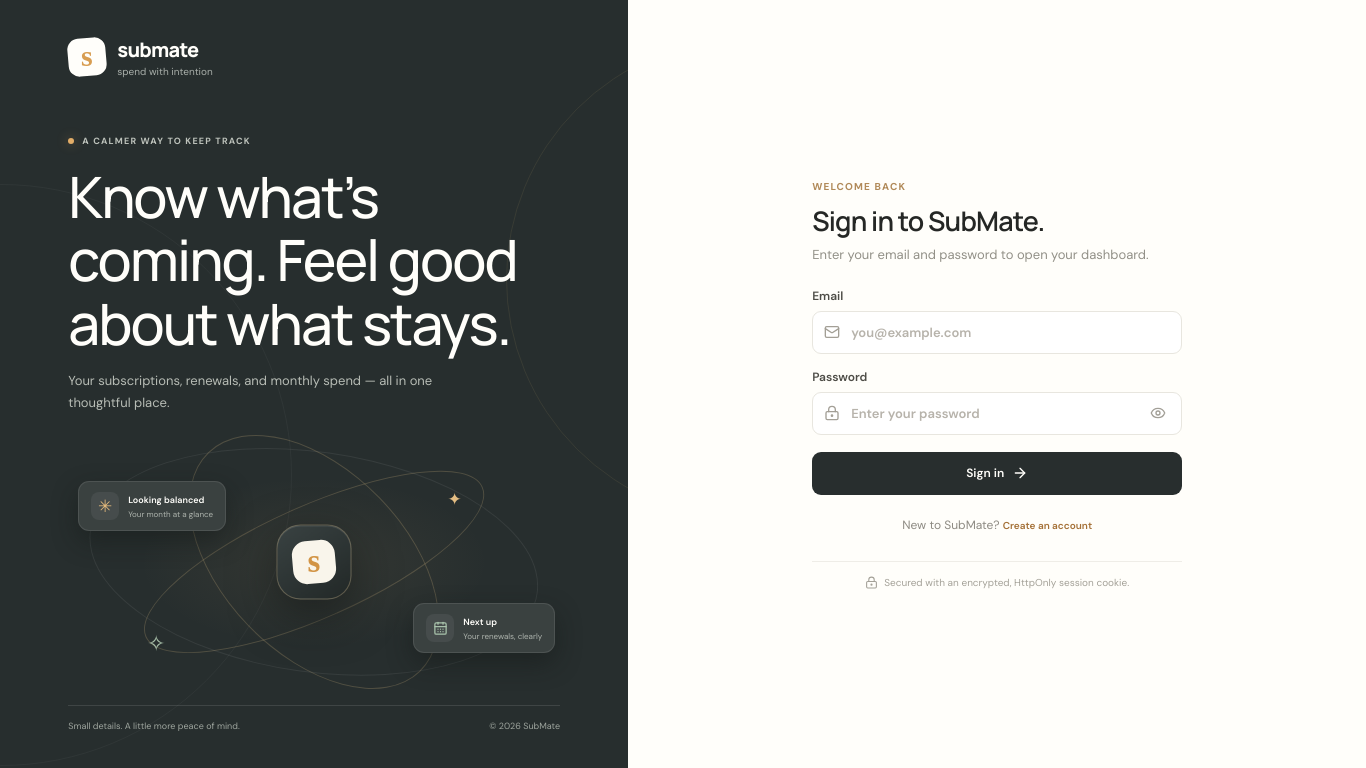
Test: AuthScreen › flags mismatched passwords before contacting the server
The width and height of the screenshot is (1366, 768).
Step 1. Click the button "Create an account" → x=1047, y=525, box [1003,518,1092,532]
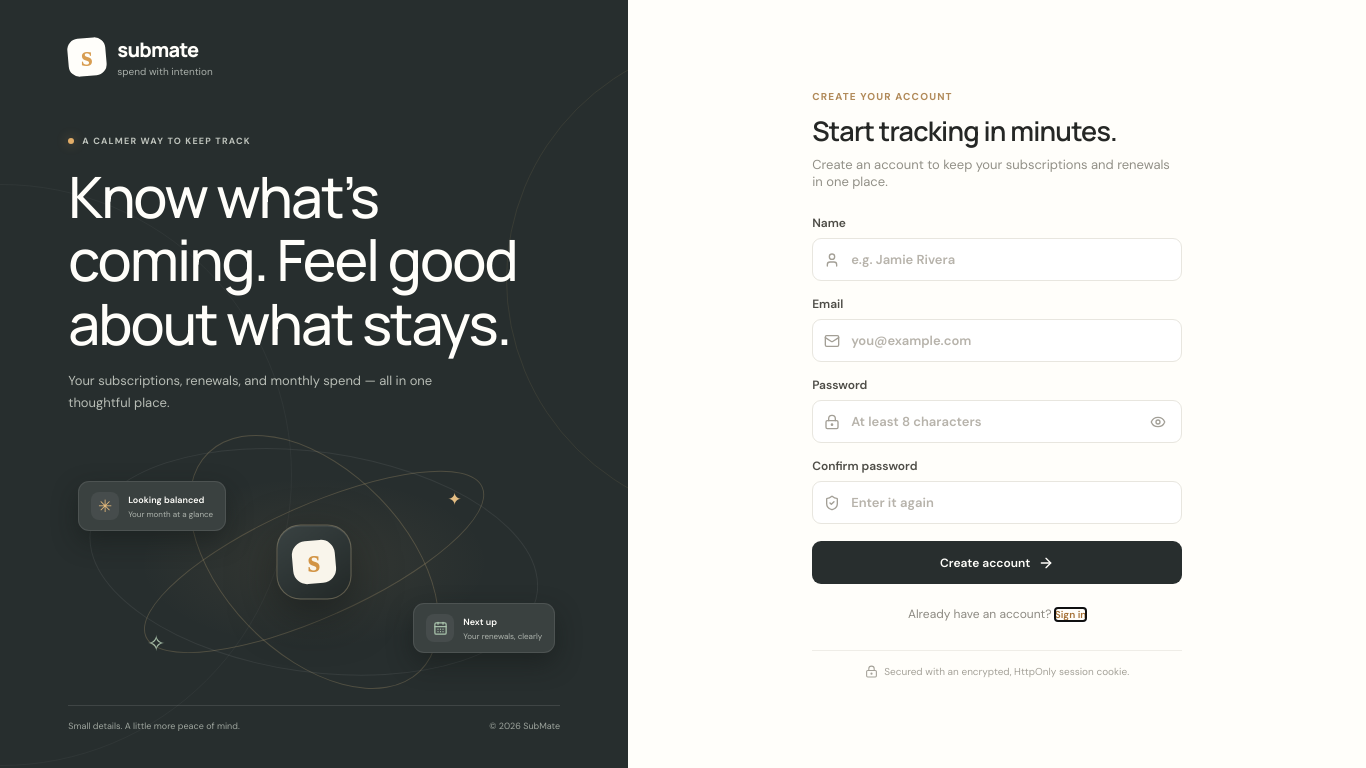
Step 2. Type "Jamie Rivera" into the field labelled "Name" → x=1010, y=260, box [849,250,1170,269]
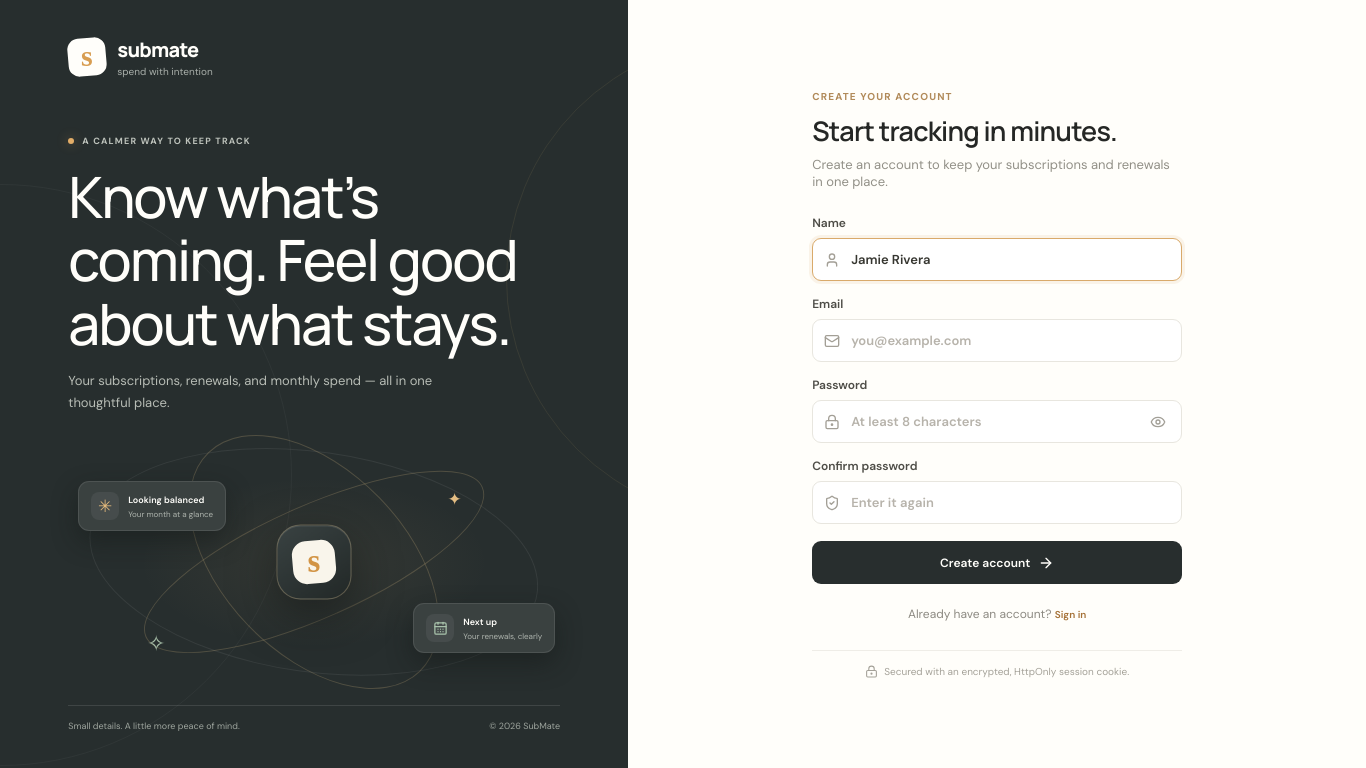
Step 3. Type "jamie@example.com" into the field labelled "Email" → x=1010, y=340, box [849,331,1170,350]
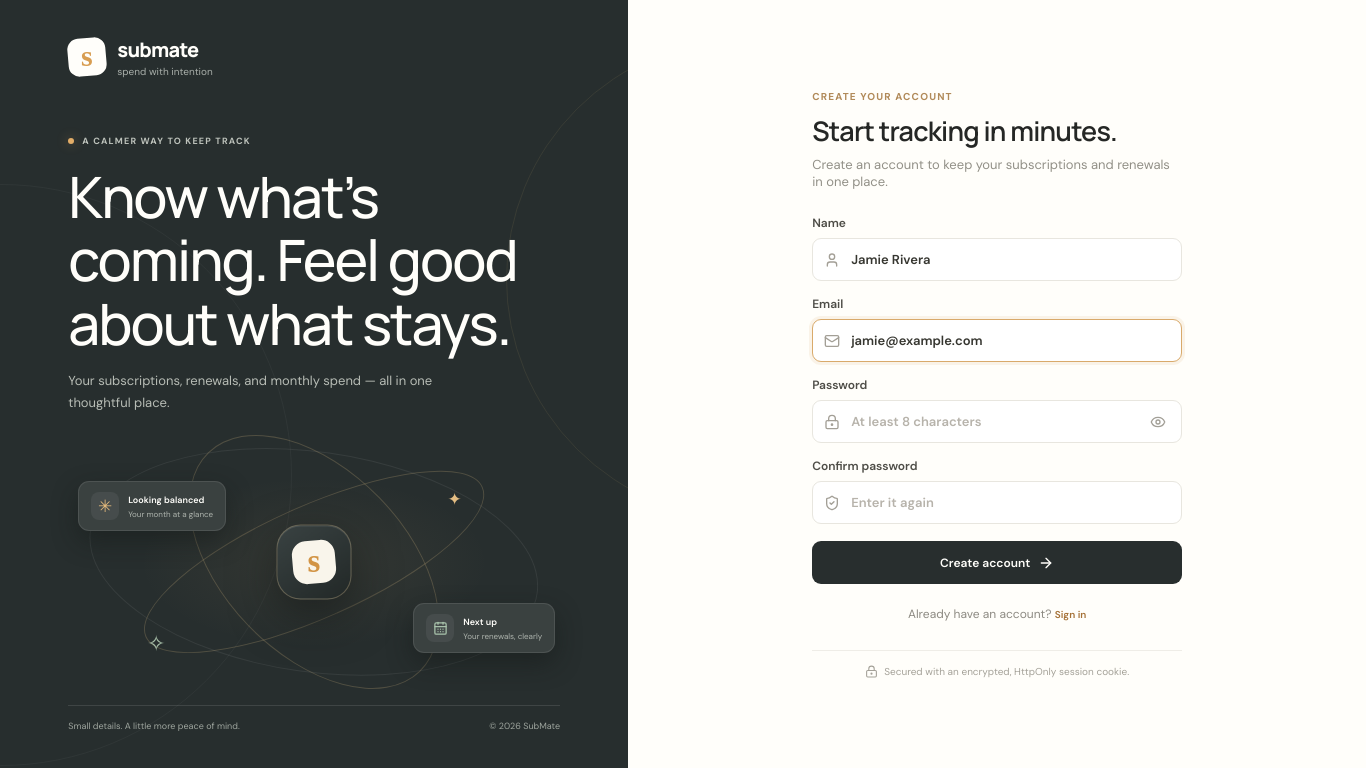
Step 4. Type "super-secret-1" into the password field labelled "Password" → x=993, y=422, box [849,412,1137,431]
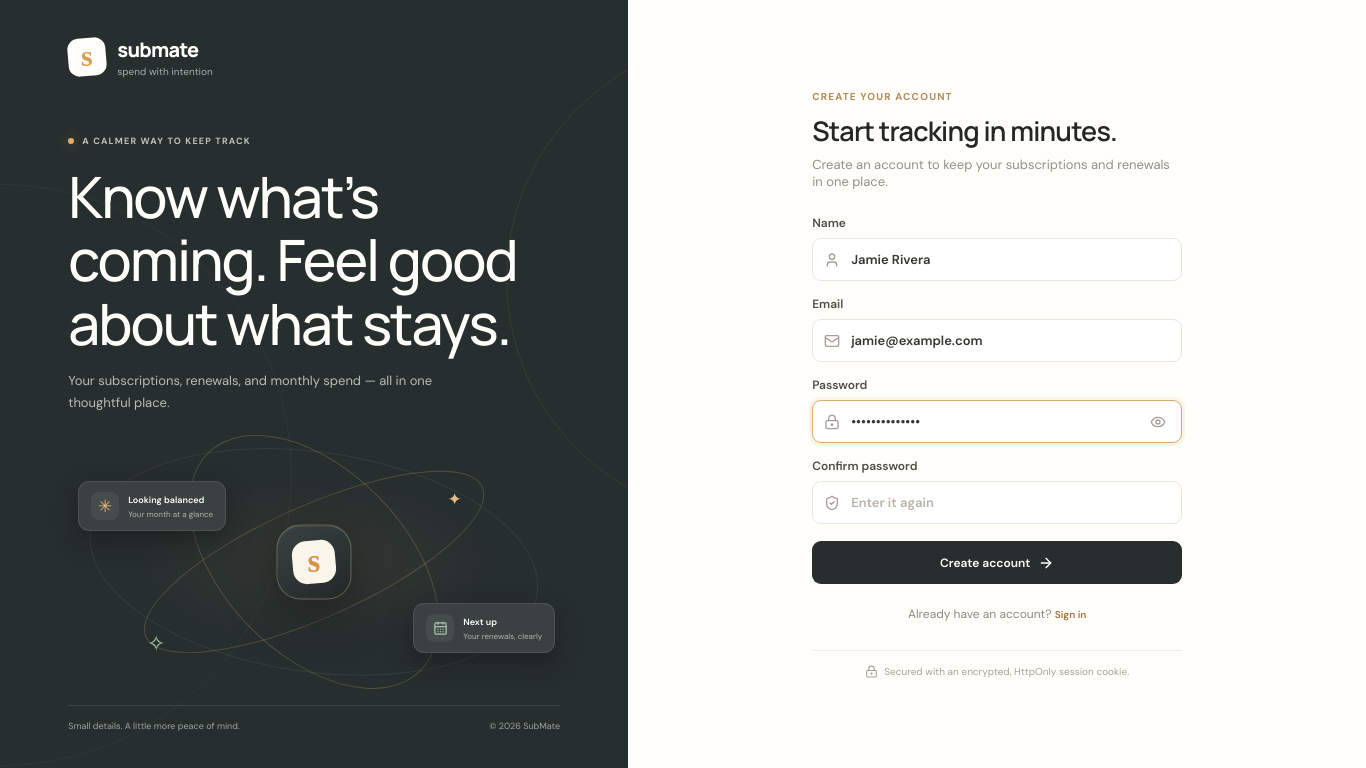
Step 5. Type "super-secret-2" into the password field labelled "Confirm password" → x=1010, y=502, box [849,493,1170,512]
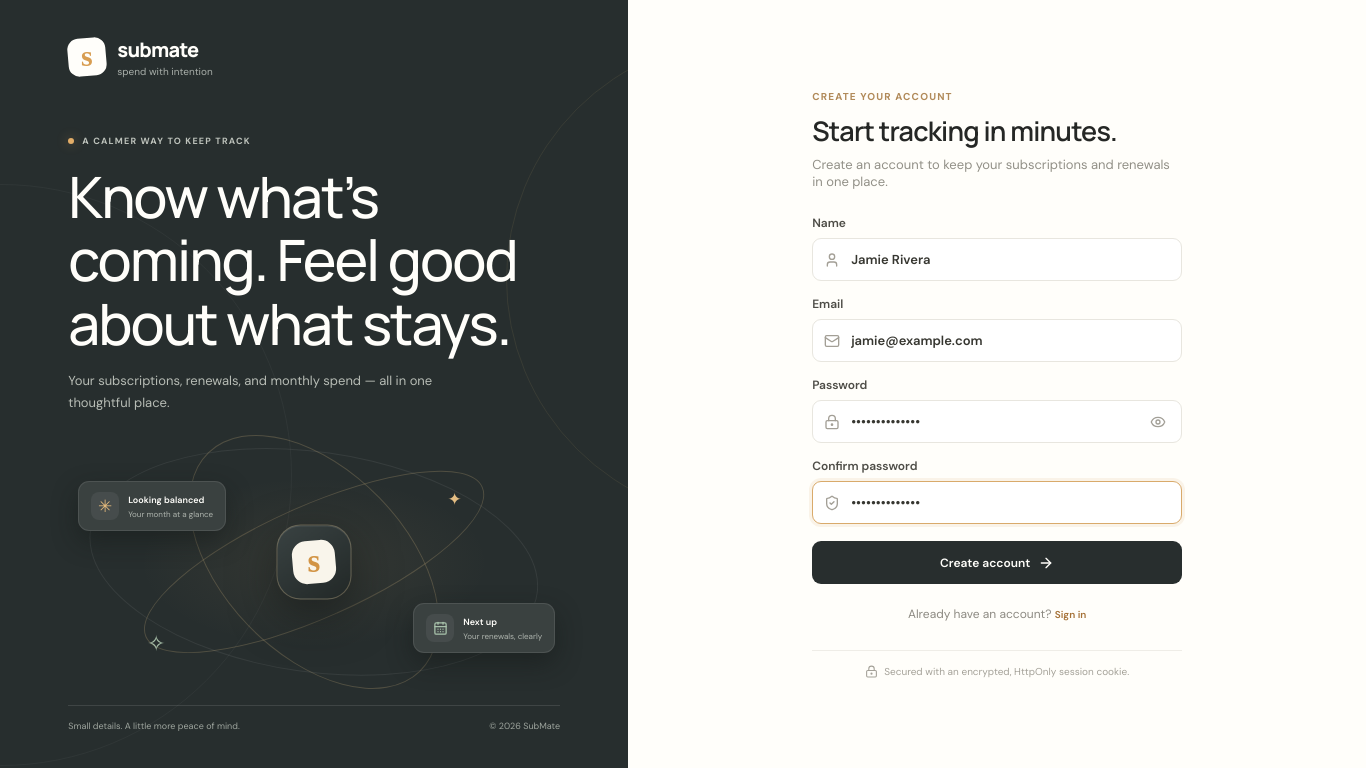
Step 6. Click the button "Create account" → x=997, y=562, box [812,541,1182,584]
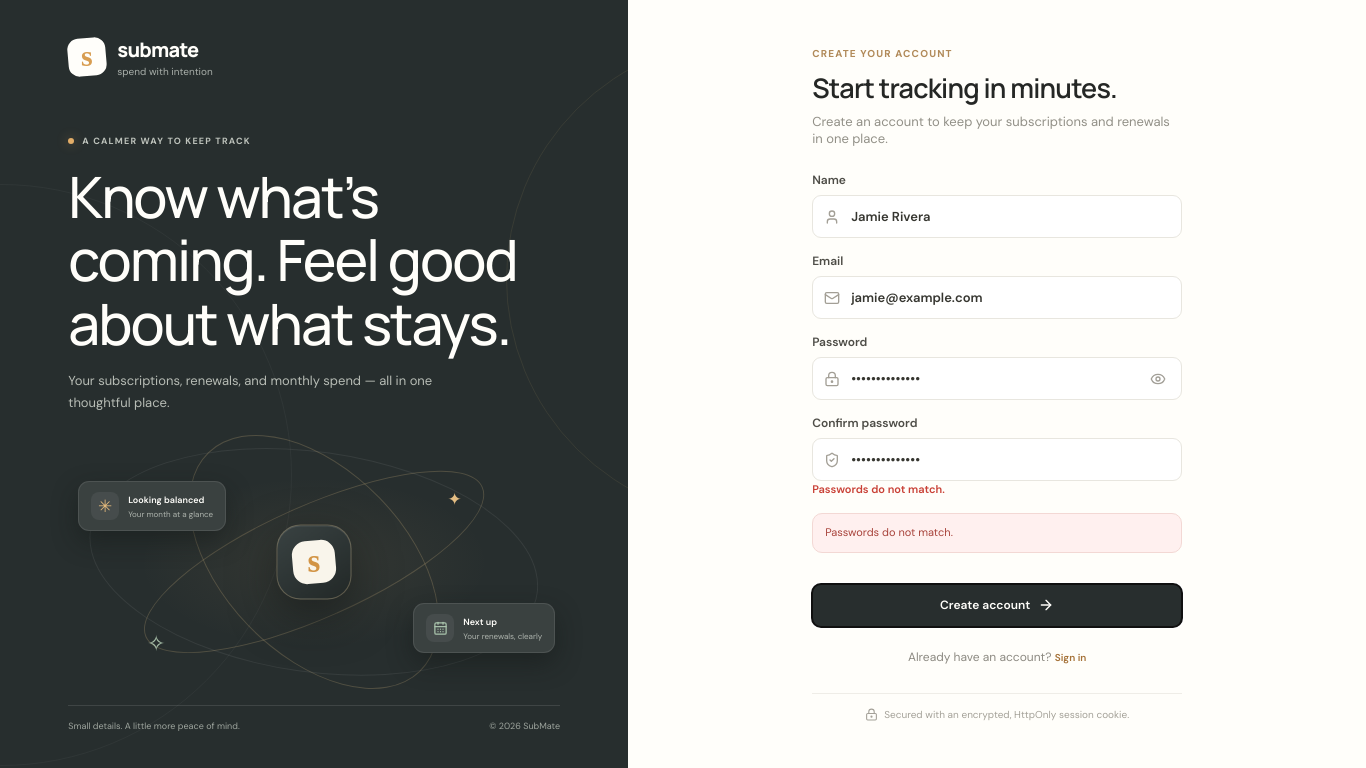
Expected: the message shows "Passwords do not match", [825,526,953,540]
